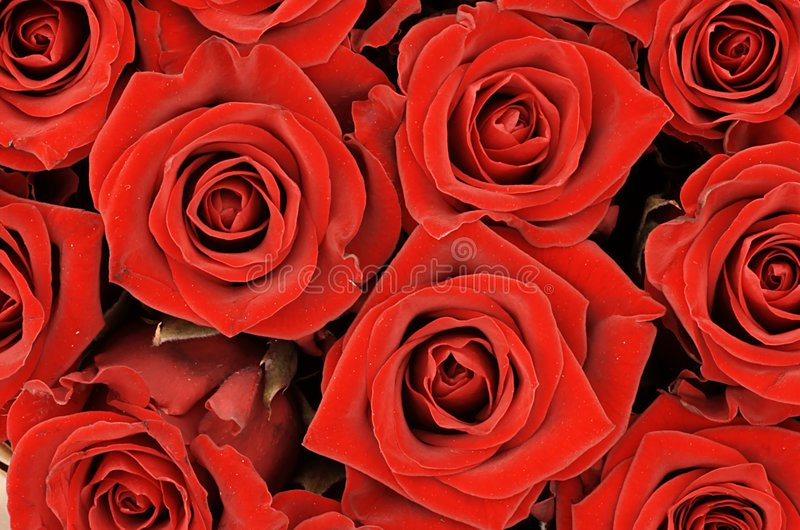RedRose: (322, 188, 660, 530), (85, 37, 414, 355), (386, 3, 676, 248), (645, 108, 800, 429), (1, 373, 297, 530), (0, 0, 134, 183)
